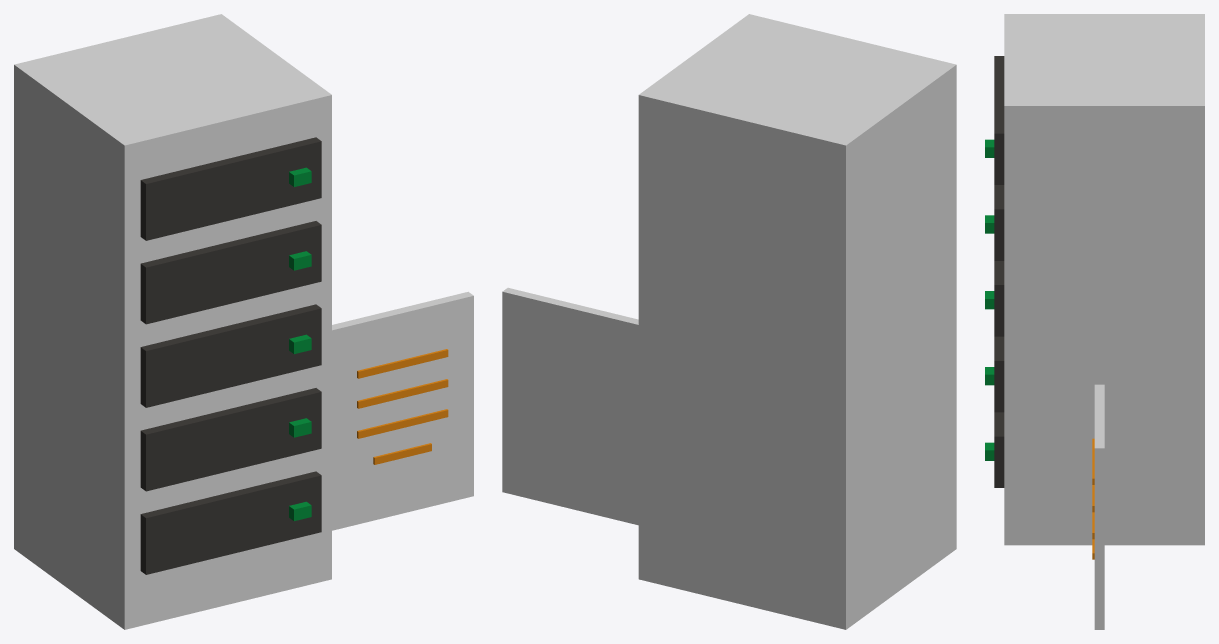
The model's file is R4_backup_restores.glb.
3 renders of one model, left to right at view 1: azimuth 30°, elevation 25°; view 2: azimuth 150°, elevation 25°; view 3: azimuth 270°, elevation 25°, orthographic. The views are drawn at different scales.
Visible parts, largest first — view 1: instance_white, instance_ink, instance_amber, instance_green; view 2: instance_white; view 3: instance_white, instance_ink, instance_green, instance_amber.
Part boxes in pixels (<box>): instance_white: <box>14,14,473,629</box>; instance_ink: <box>140,137,321,574</box>; instance_amber: <box>357,349,448,464</box>; instance_green: <box>289,167,311,521</box>; instance_white: <box>502,14,956,629</box>; instance_white: <box>1004,14,1204,629</box>; instance_ink: <box>994,56,1004,487</box>; instance_green: <box>985,139,994,460</box>; instance_amber: <box>1092,438,1094,559</box>.
Bounding box in the file's own units: 1.25 × 1.45 × 0.6575.
